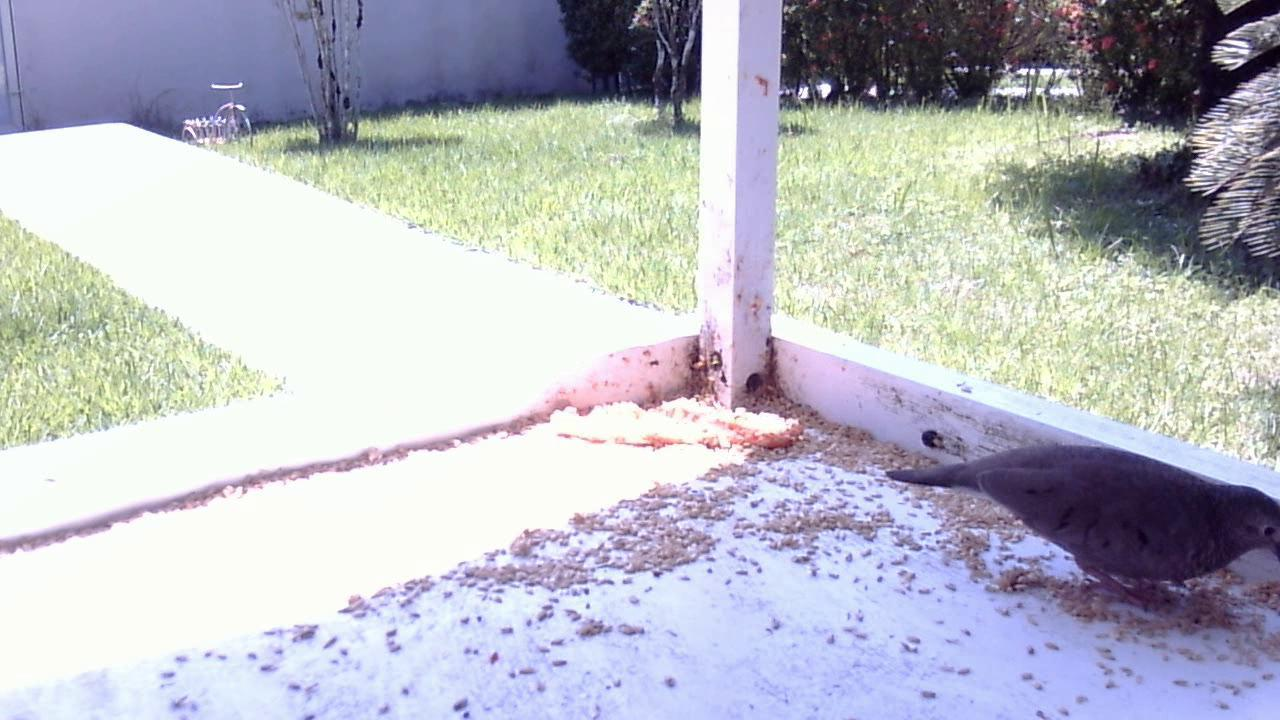rolinha: (871, 417, 1275, 627)
